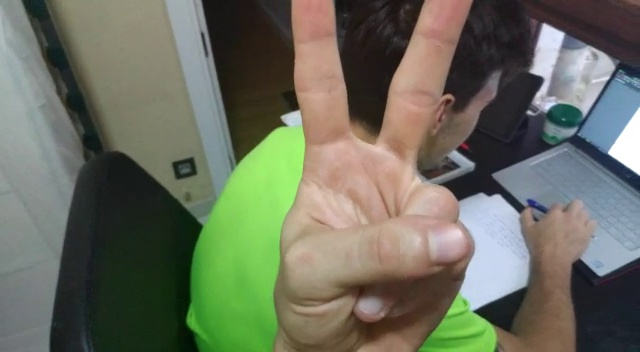Peace: (270, 1, 470, 352)
